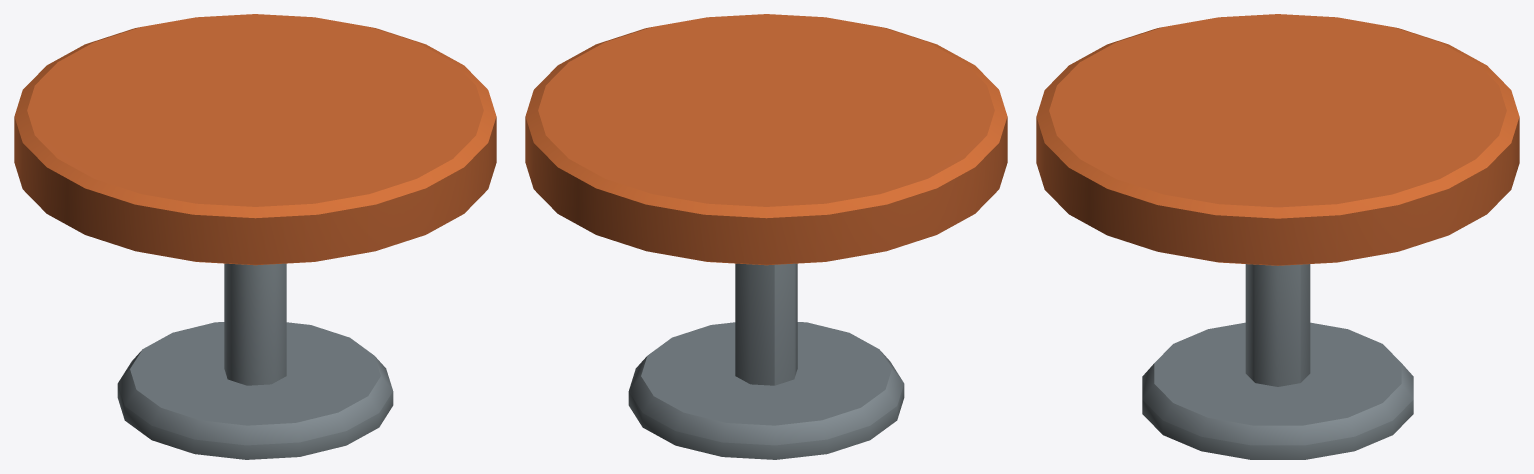
The model's file is kk_table_round.glb.
3 renders of one model, left to right at view 1: azimuth 30°, elevation 25°; view 2: azimuth 150°, elevation 25°; view 3: azimuth 270°, elevation 25°, orthographic.
Visible parts, largest first — view 1: table_round_A_small; view 2: table_round_A_small; view 3: table_round_A_small.
Boxes of the visible parts, x1,y1,x2,y2 form: table_round_A_small: (14,14,496,459); table_round_A_small: (525,14,1007,459); table_round_A_small: (1036,14,1519,459).
Bounding box in the file's own units: 1.11 × 0.74 × 1.11.
1 material, 1 textured.
